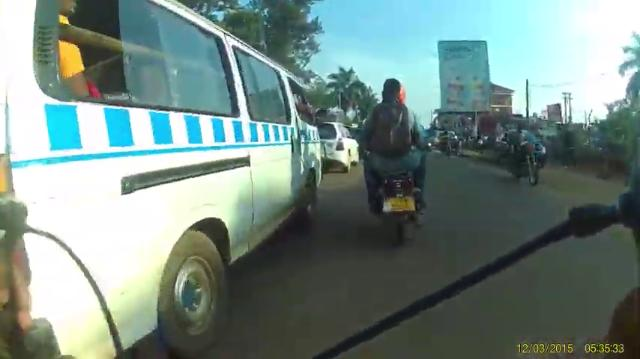car: (317, 121, 359, 173)
motorcycle: (362, 120, 426, 242), (503, 133, 544, 186)
van: (0, 1, 324, 359)
